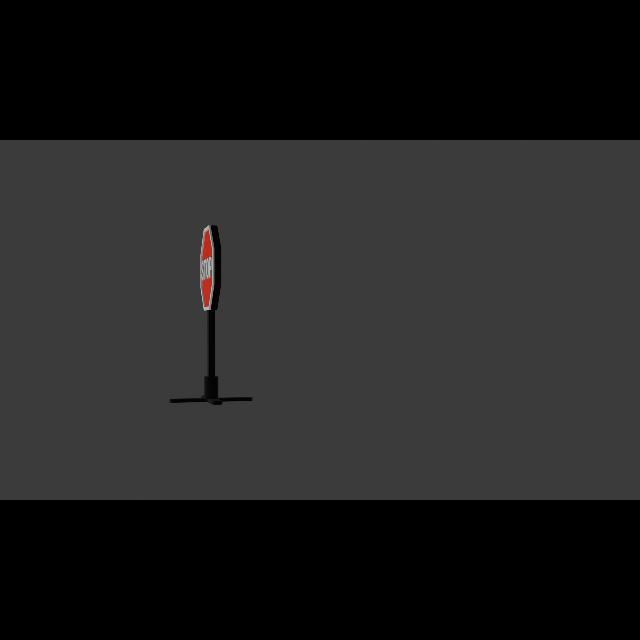sign_stop: (199, 225, 224, 314)
